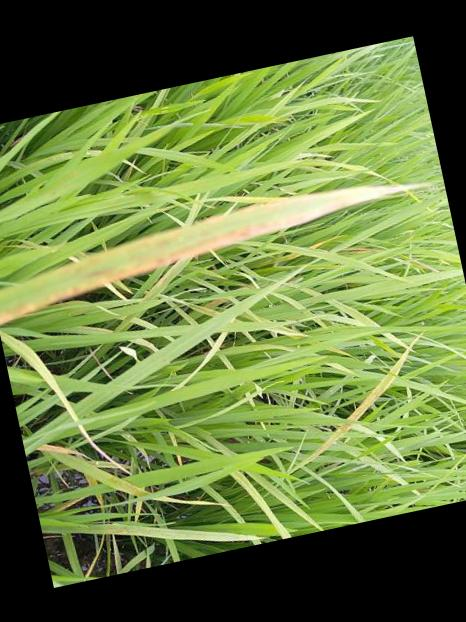Leaf Blight: (0, 182, 415, 321), (0, 329, 130, 475), (307, 345, 411, 460), (142, 258, 180, 299), (102, 474, 149, 496), (37, 444, 87, 454), (154, 495, 215, 502)
